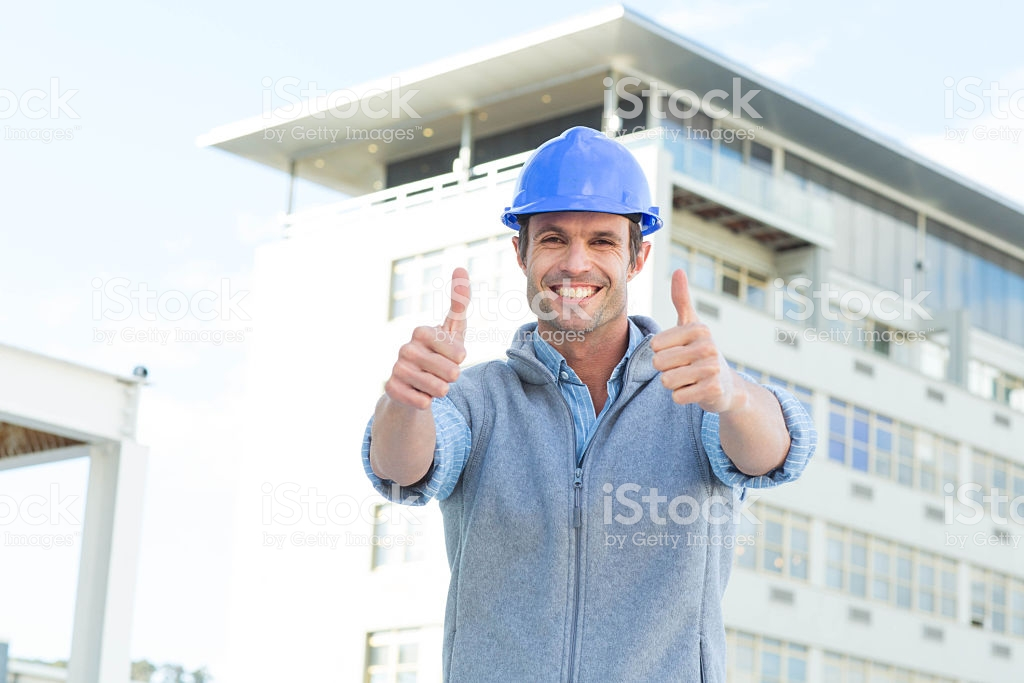thumbsup: (382, 265, 471, 410), (646, 268, 730, 410)
